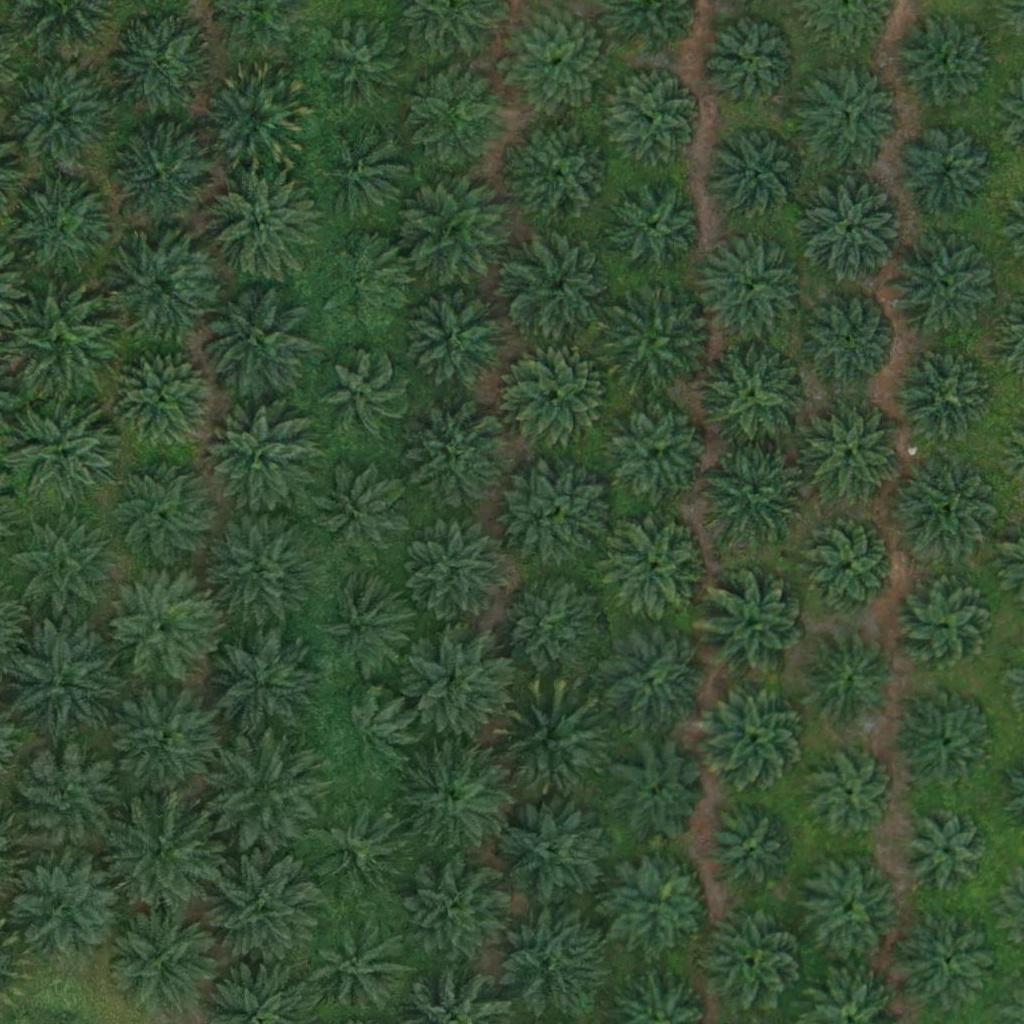Kelapa_Sawit: (502, 6, 615, 120), (506, 118, 619, 232), (603, 282, 716, 396), (695, 339, 808, 453), (703, 438, 816, 552), (106, 684, 219, 798), (103, 794, 216, 908), (4, 513, 117, 627), (6, 623, 119, 737), (200, 62, 313, 175), (204, 166, 317, 279), (199, 283, 312, 396), (203, 405, 316, 518), (401, 513, 514, 626), (890, 229, 1003, 342), (697, 570, 810, 683), (699, 680, 812, 793), (498, 793, 611, 906), (494, 903, 607, 1016), (403, 627, 516, 740), (394, 740, 507, 853), (400, 857, 513, 970), (108, 904, 221, 1017), (10, 744, 123, 857), (693, 232, 805, 346), (890, 454, 1002, 568), (207, 734, 319, 848), (209, 851, 321, 965), (104, 11, 216, 124), (3, 62, 115, 175), (1, 169, 113, 282), (8, 399, 120, 512), (103, 232, 215, 345), (107, 456, 219, 569), (206, 513, 318, 626), (404, 176, 516, 289), (402, 284, 514, 397), (506, 233, 618, 346), (505, 457, 617, 570), (797, 173, 909, 286), (496, 573, 608, 686), (495, 688, 607, 801), (205, 628, 317, 741), (105, 571, 217, 684), (15, 851, 127, 964), (109, 124, 209, 225), (112, 347, 212, 448), (410, 408, 510, 509), (508, 344, 608, 445), (610, 401, 710, 502), (706, 17, 806, 118), (708, 123, 808, 224), (801, 61, 901, 162), (895, 13, 995, 114), (898, 121, 998, 222), (896, 345, 996, 446), (901, 910, 1001, 1011), (799, 629, 899, 730), (800, 857, 900, 958), (704, 911, 804, 1012), (603, 516, 703, 617), (600, 628, 700, 729), (609, 744, 709, 845), (610, 854, 710, 955), (315, 574, 415, 675), (414, 68, 514, 168), (605, 67, 705, 167), (608, 178, 708, 278), (800, 289, 900, 389), (802, 406, 902, 506), (895, 575, 995, 675), (899, 691, 999, 791), (799, 516, 899, 616), (307, 801, 407, 901), (311, 920, 411, 1020), (319, 133, 407, 221), (708, 806, 796, 894), (324, 691, 412, 779), (324, 23, 411, 111), (323, 237, 410, 325), (318, 351, 405, 439), (319, 467, 406, 555), (906, 805, 993, 893), (808, 749, 895, 837)
